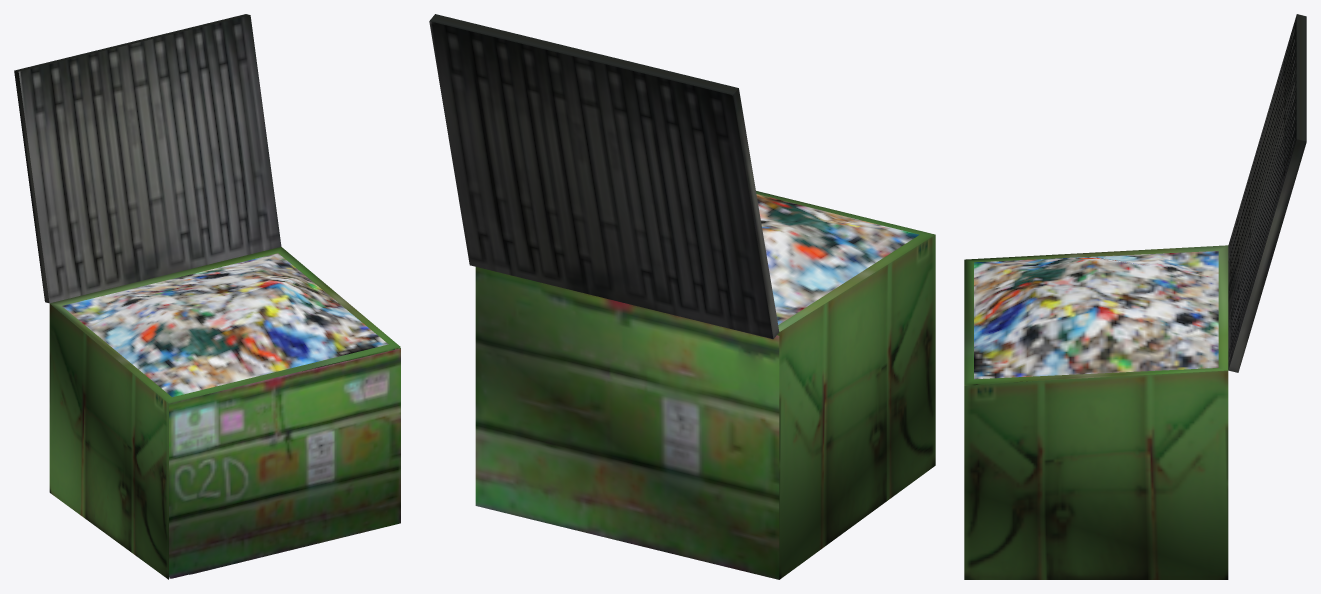
File: open_dumpster.FBX
3 renders of one model, left to right at view 1: azimuth 30°, elevation 25°; view 2: azimuth 150°, elevation 25°; view 3: azimuth 270°, elevation 25°, orthographic. The views are drawn at different scales.
Parts seen in each view (by area): view 1: open_dumpster, dumpster_lid; view 2: open_dumpster, dumpster_lid; view 3: open_dumpster, dumpster_lid.
Boxes of the visible parts, left/top/right/bottom form: open_dumpster: left=49, top=247, right=400, bottom=579; dumpster_lid: left=14, top=14, right=281, bottom=303; open_dumpster: left=475, top=191, right=935, bottom=579; dumpster_lid: left=429, top=14, right=779, bottom=339; open_dumpster: left=964, top=245, right=1228, bottom=579; dumpster_lid: left=1228, top=14, right=1306, bottom=372.
Bounding box in the file's own units: 76.69 × 126 × 88.67.
